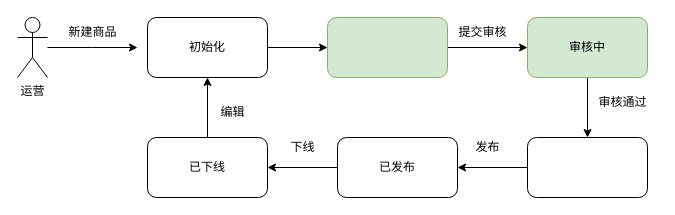
This 675x215 diagram has some shape labels left out. The shapes that lost their labels are listed below. From the top down, each one's centre as x and y in pixels, then its label:
At (387,47): "待审核".
At (587,167): "待发布".
